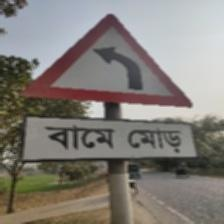Left-Turn: (19, 11, 198, 158)
